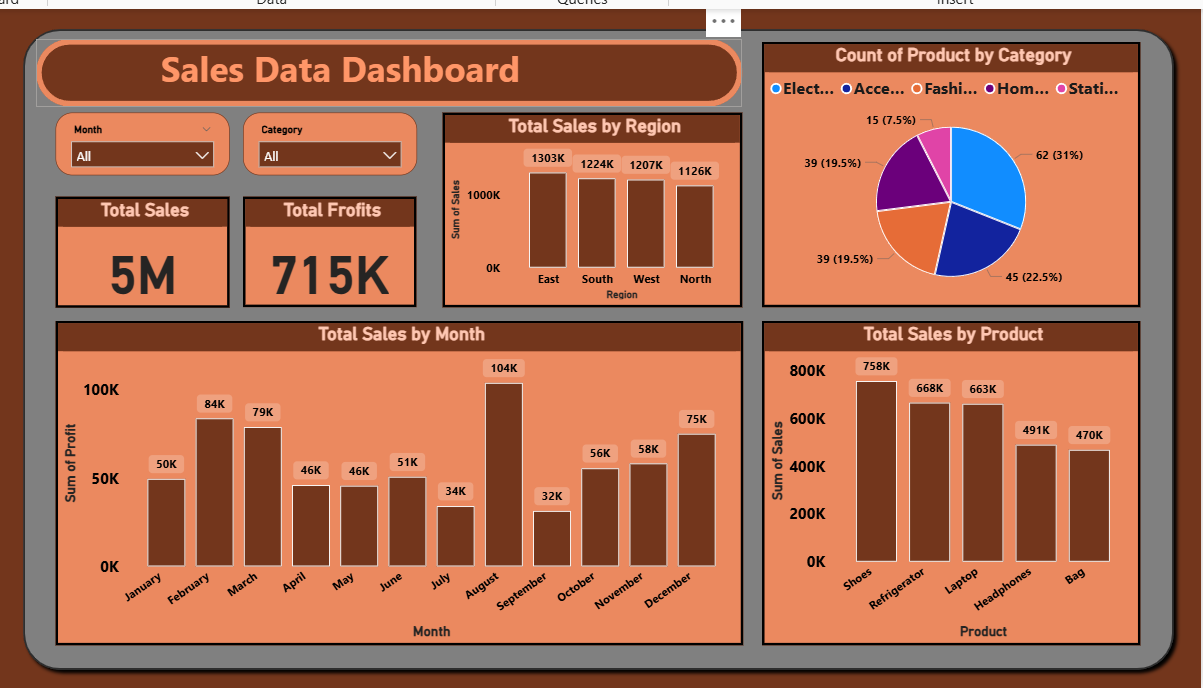

The page's visual inventory and layout, read from the dashboard file:
{"tool":"powerbi","page":{"name":"Dashboard","canvas":[1280,720],"ordinal":0},"visuals":[{"type":"shape","box":[22.3,12.2,1237.5,696.7],"z":0},{"type":"cardVisual","title":"Total Sales","fields":{"Data":["Sum(SalesData.Sales)"]},"box":[65.2,198.8,184.5,117.7],"z":1000},{"type":"cardVisual","title":"Total Frofits","fields":{"Data":["Sum(SalesData.Profit)"]},"box":[263.3,198.5,184.3,117.5],"z":2000},{"type":"columnChart","title":"Total Sales by Product","fields":{"Category":["SalesData.Product"],"Y":["Sum(SalesData.Sales)"]},"box":[814.2,330.1,401,344.3],"z":3000},{"type":"clusteredColumnChart","title":"Total Sales by Month","fields":{"Category":["SalesData.Date.Variation.Date Hierarchy.Month"],"Y":["Sum(SalesData.Profit)"]},"box":[64.8,330.1,729.1,344.3],"z":4000},{"type":"pieChart","fields":{"Category":["SalesData.Category"],"Y":["CountNonNull(SalesData.Product)"]},"box":[814.2,34.4,401,281.5],"z":5000},{"type":"group","id":"g1","title":"Group 1","box":[44.5,31.8,749.2,71.6],"z":6000},{"type":"shape","box":[44.5,31.8,749.2,71.6],"z":6002,"group":"g1"},{"type":"columnChart","title":"Total Sales by Region","fields":{"Category":["SalesData.Region"],"Y":["Sum(SalesData.Sales)"]},"box":[475.9,109.4,318,206.6],"z":7000},{"type":"textbox","box":[172.2,32.4,425.3,60.8],"z":8000},{"type":"slicer","fields":{"Values":["SalesData.Date.Variation.Date Hierarchy.Month"]},"box":[65.2,109.8,184.5,66.8],"z":9000},{"type":"slicer","fields":{"Values":["SalesData.Category"]},"box":[264,109.8,184.5,66.8],"z":10000}]}

Visuals, with their boxes in screenshot pixels (x1, y1, x2, y2):
shape: locate(24, 24, 1171, 670)
"Total Sales" cardVisual: locate(64, 197, 235, 306)
"Total Frofits" cardVisual: locate(247, 197, 418, 305)
"Total Sales by Product" columnChart: locate(758, 318, 1129, 638)
"Total Sales by Month" clusteredColumnChart: locate(63, 318, 739, 638)
pieChart - SalesData.Category x CountNonNull(SalesData.Product): locate(758, 44, 1129, 305)
"Group 1" group: locate(44, 42, 739, 108)
shape: locate(44, 42, 739, 108)
"Total Sales by Region" columnChart: locate(444, 114, 739, 305)
textbox: locate(163, 43, 557, 99)
slicer - SalesData.Date.Variation.Date Hierarchy.Month: locate(64, 114, 235, 176)
slicer - SalesData.Category: locate(248, 114, 419, 176)
